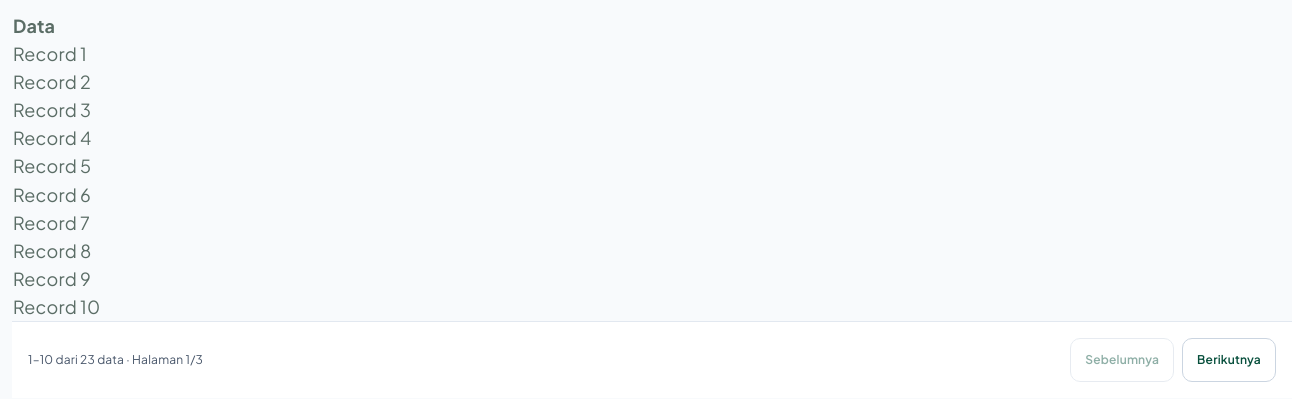
shows ten rows, navigates, clamps page and resets when filtered records change
The width and height of the screenshot is (1292, 399).
Later steps or results of the test are not shown.
Expected: the text "Record 11" is not shown
Expected: the text "Record 10" is shown, left=12, top=293, right=101, bottom=321
What coordinates should you click on to do the following:
click the button "Berikutnya"
I would click on:
 (1229, 360)
Its box is left=1182, top=338, right=1276, bottom=382.
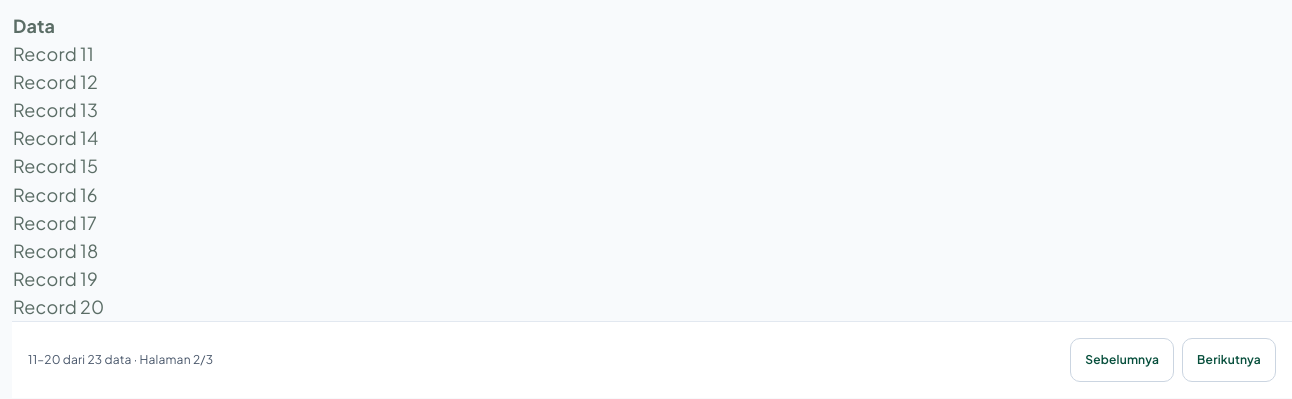
Result: the text "Record 11" is shown at left=12, top=40, right=105, bottom=68
What coordinates should you click on to do the following:
click the button "Berikutnya"
I would click on:
 (1229, 360)
Its box is left=1182, top=338, right=1276, bottom=382.
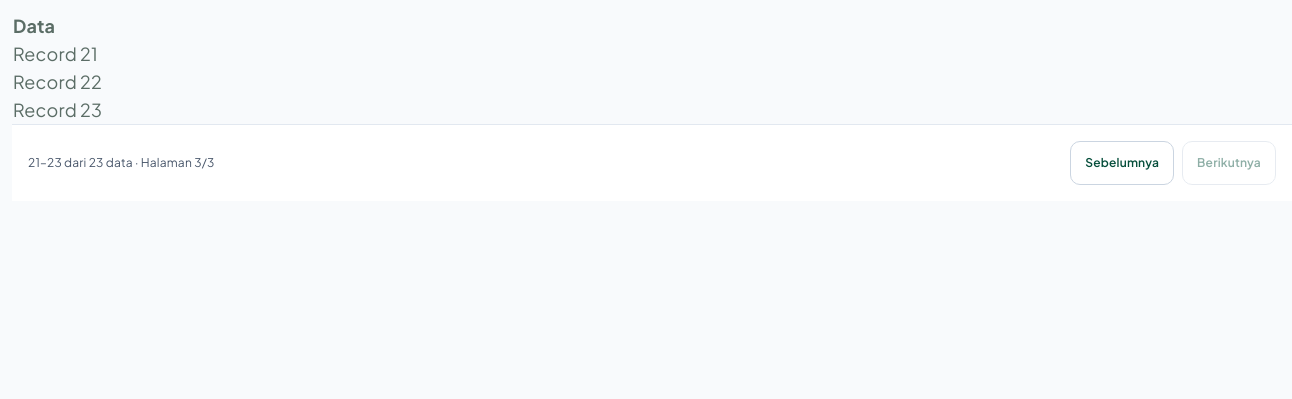
Result: the text "Record 23" is shown at left=12, top=96, right=103, bottom=124
Result: the button "Berikutnya" is disabled at left=1182, top=141, right=1276, bottom=186
